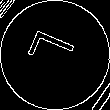L_SE: (26, 31, 84, 79)
